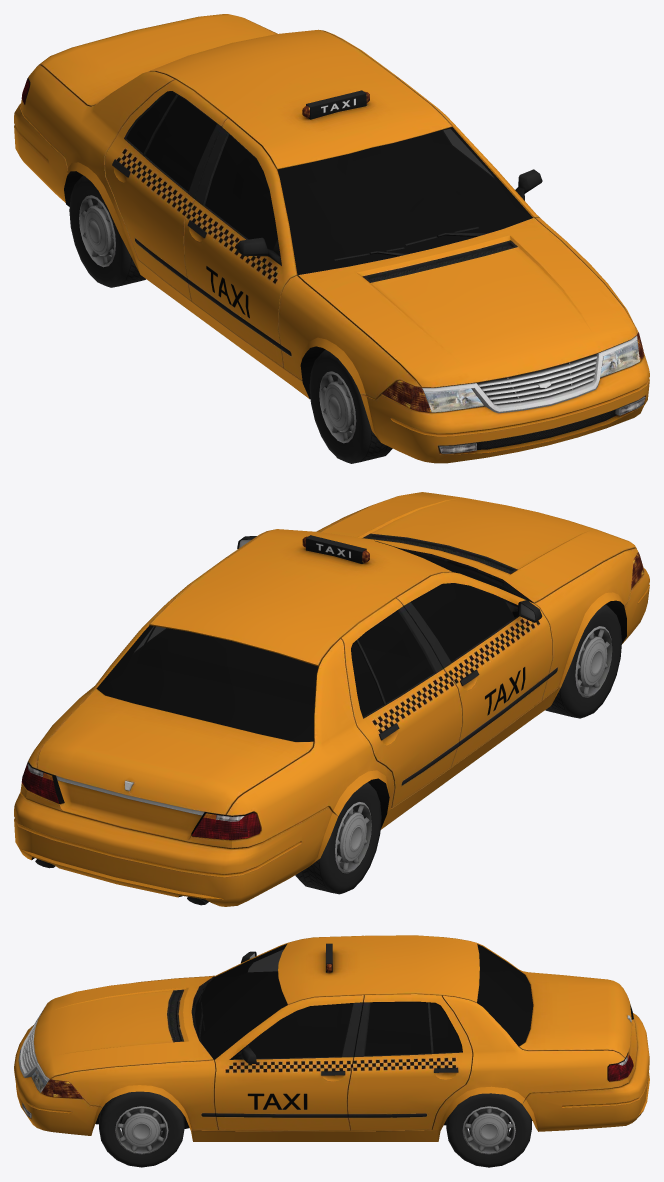
Rendered from taxi.glb.
3 renders of one model, top to bottom at view 1: azimuth 30°, elevation 25°; view 2: azimuth 150°, elevation 25°; view 3: azimuth 270°, elevation 25°, orthographic. The views are drawn at different scales.
Parts seen in each view (by area): view 1: body_0, body_1, wheel_1, wheel_2, body_3; view 2: body_0, body_1, wheel_2, wheel_1, body_3; view 3: body_0, body_1, wheel_3, wheel_0, body_3, body_2.
Part boxes in pixels (left/top/right/bottom): body_0: left=14, top=14, right=649, bottom=463; body_1: left=126, top=92, right=532, bottom=275; wheel_1: left=309, top=349, right=392, bottom=463; wheel_2: left=69, top=175, right=145, bottom=287; body_3: left=21, top=78, right=645, bottom=453; body_0: left=14, top=492, right=649, bottom=906; body_1: left=96, top=540, right=524, bottom=741; wheel_2: left=295, top=782, right=381, bottom=894; wheel_1: left=545, top=604, right=621, bottom=718; body_3: left=21, top=536, right=643, bottom=839; body_0: left=14, top=935, right=649, bottom=1141; body_1: left=194, top=944, right=533, bottom=1059; wheel_3: left=99, top=1091, right=184, bottom=1167; wheel_0: left=446, top=1093, right=531, bottom=1167; body_3: left=22, top=964, right=633, bottom=1117; body_2: left=247, top=1093, right=307, bottom=1109.
Bounding box in the file's own units: 2 × 1.5 × 5.09.
Materials: 4 (4 with a texture image).
